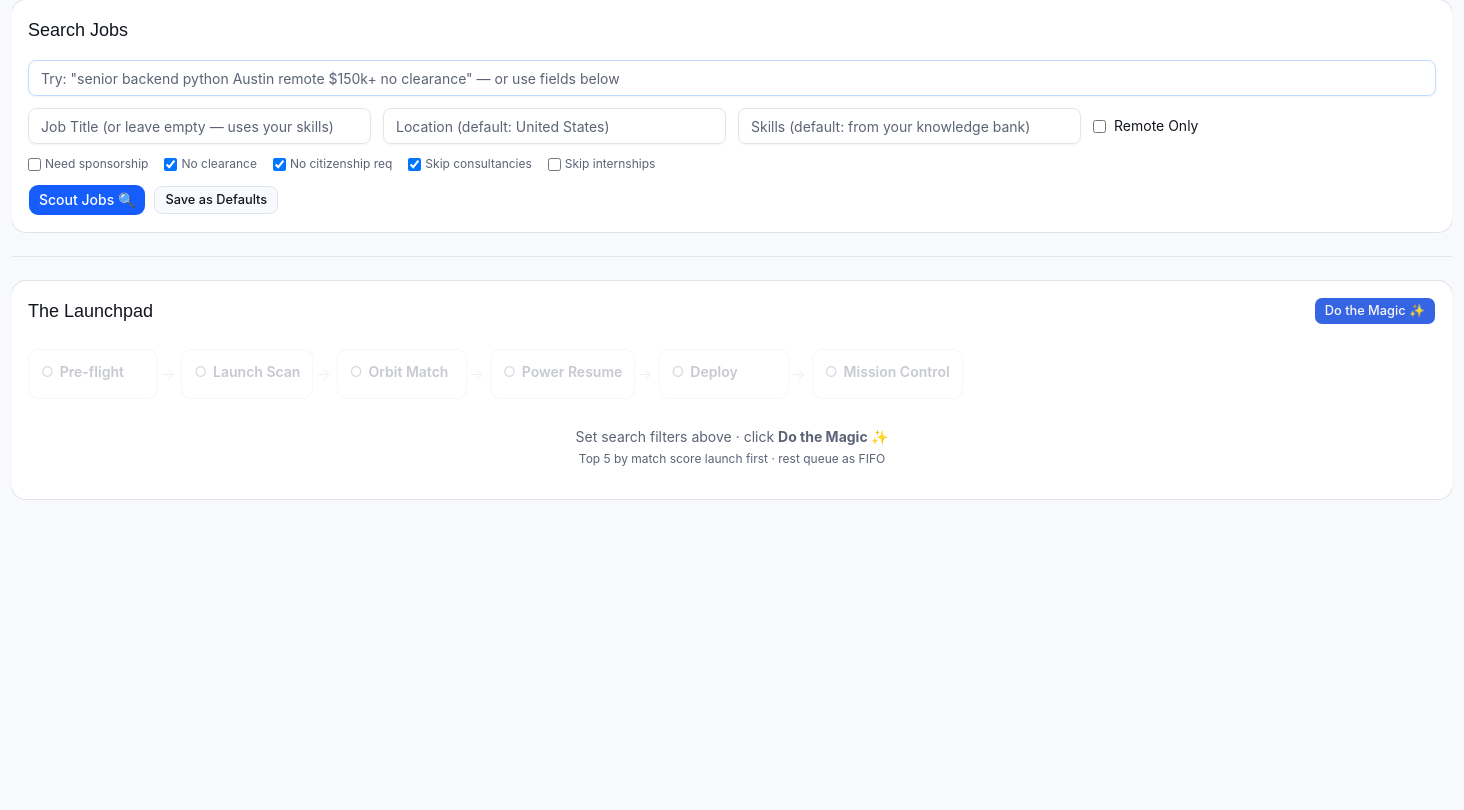
Scenario: JobSearchTab — selection + AI evaluate › shows an error status when AI evaluation throws
What coordinates should you click on to do the following:
click the button "Scout Jobs 🔍"
I would click on:
 (87, 200)
Its box is [28,184,146,216].
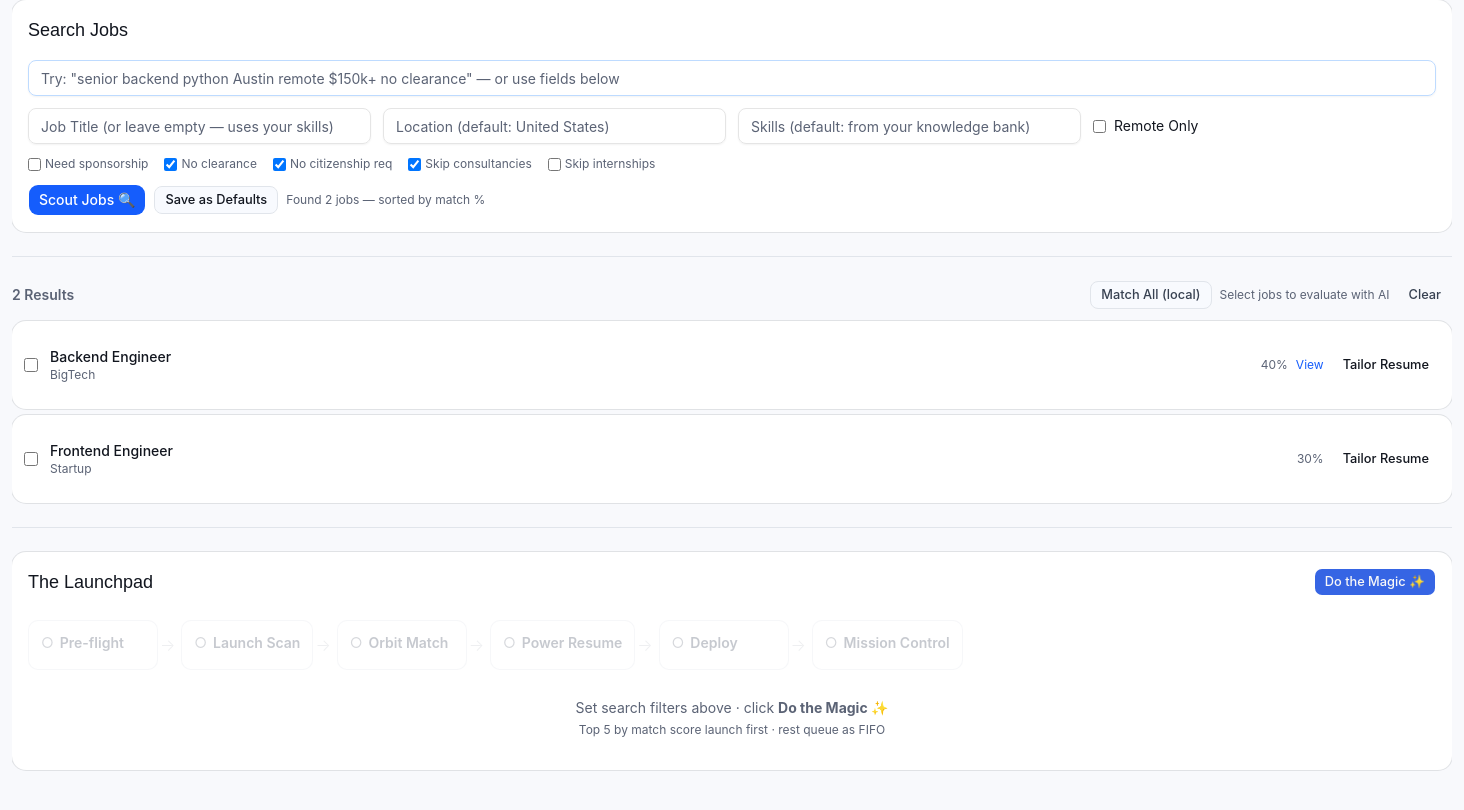
Expected: the text "Backend Engineer" is shown, [50,347,171,367]
What coordinates should you click on to do the following:
click the checkbox named "Select Backend Engineer"
I would click on:
 (31, 365)
Its box is [24,358,38,372].
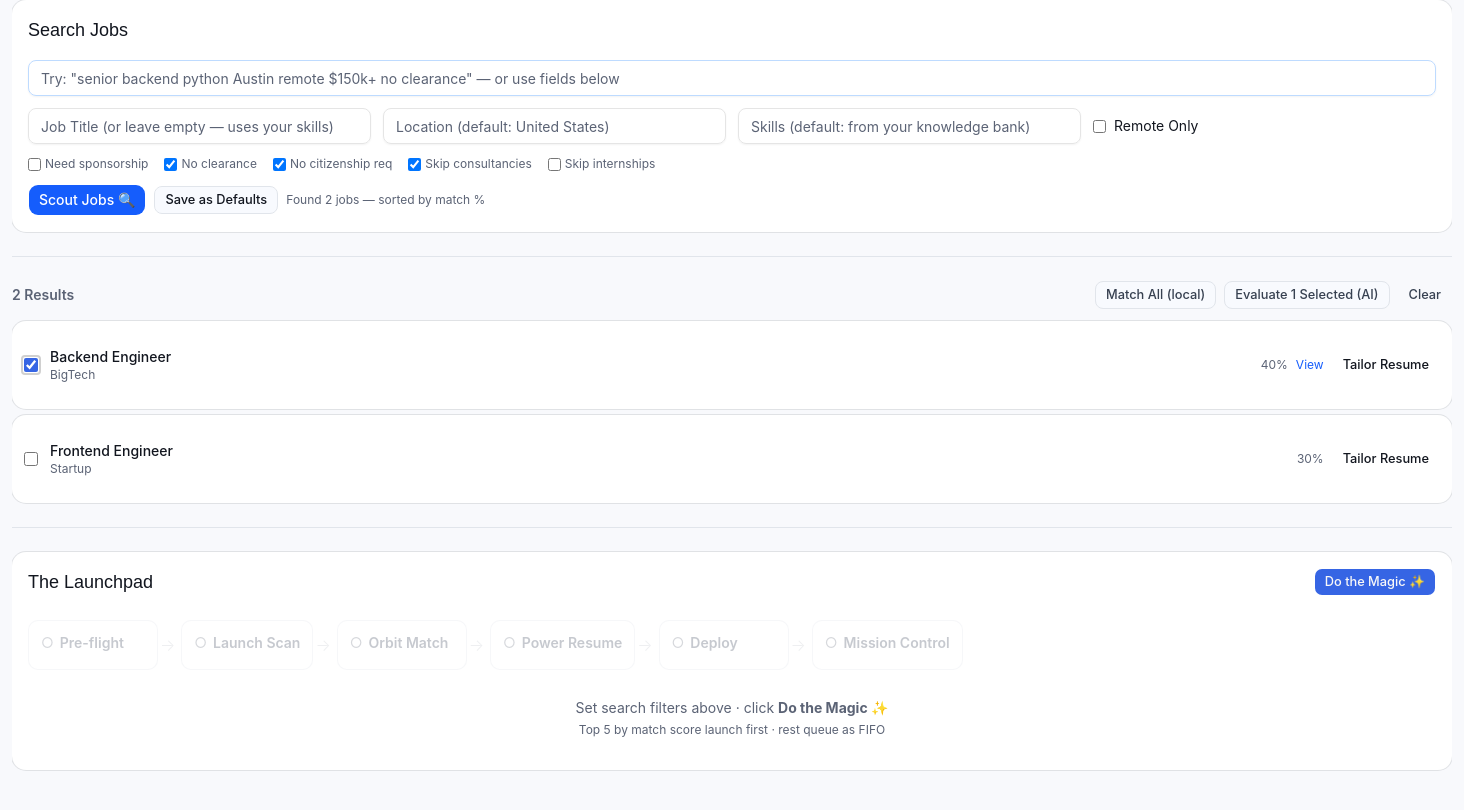
What coordinates should you click on to do the following:
click the button "Evaluate 1 Selected (AI)"
I would click on:
 (1307, 295)
Its box is [1224,281,1390,309].
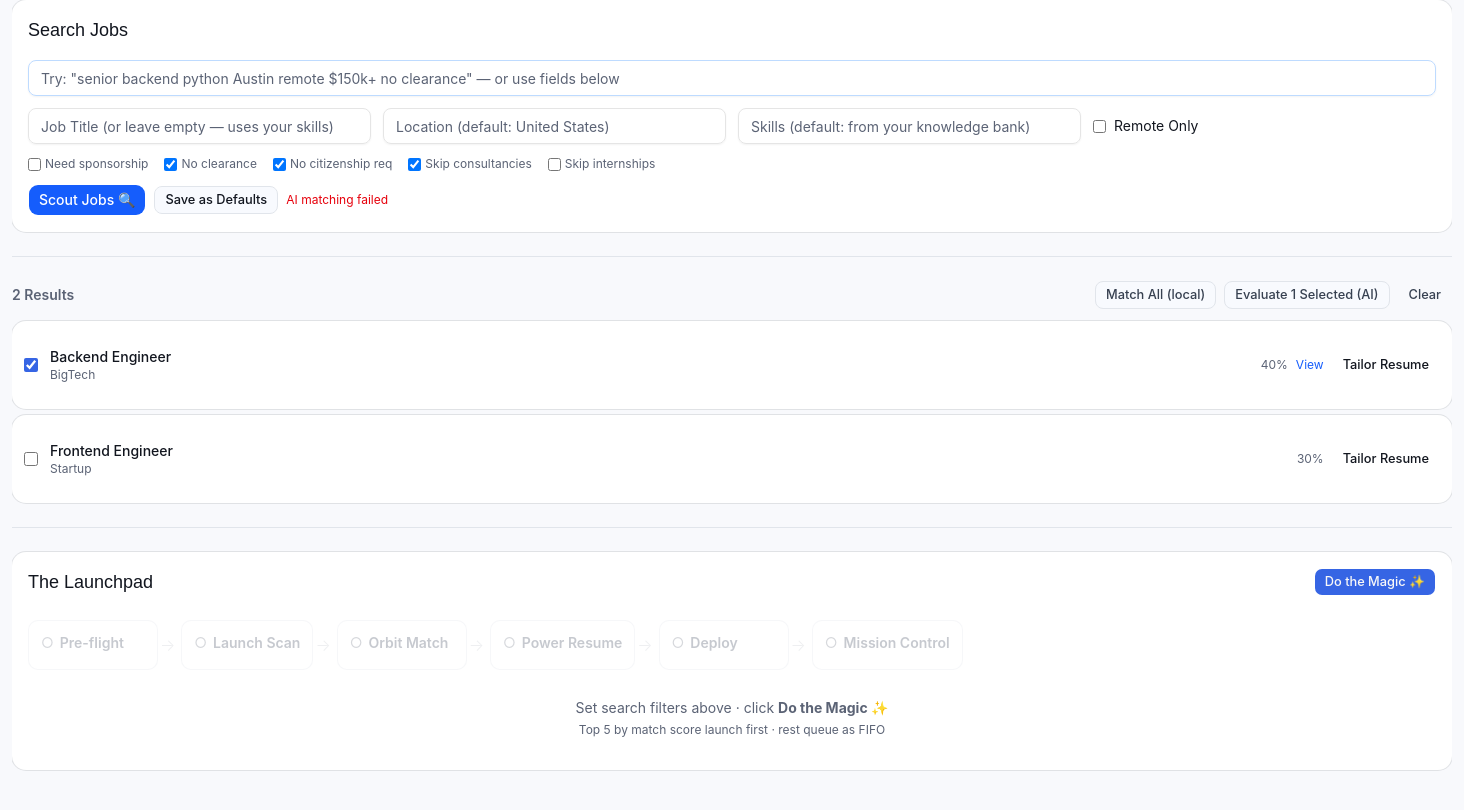
Expected: the text "AI matching failed" is shown, [286,192,388,208]
